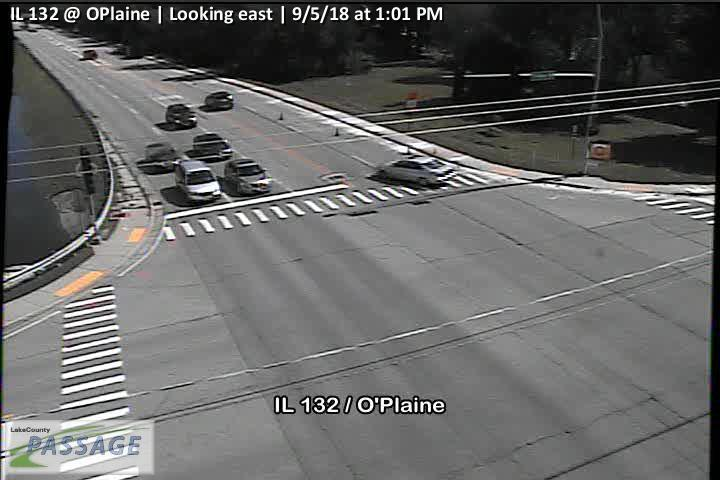SUV: (225, 159, 273, 194), (193, 133, 232, 162), (145, 142, 179, 173), (166, 102, 198, 128), (205, 90, 233, 110)
Sedan: (376, 154, 457, 187), (175, 159, 222, 202)
